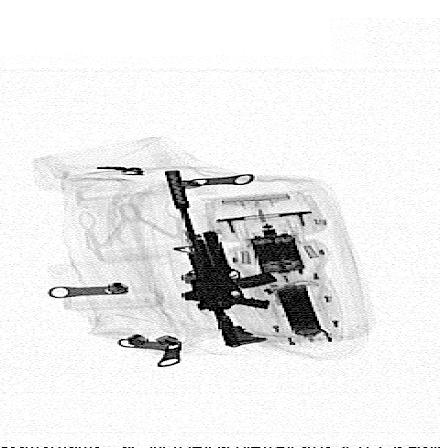Gun: (165, 171, 278, 350)
